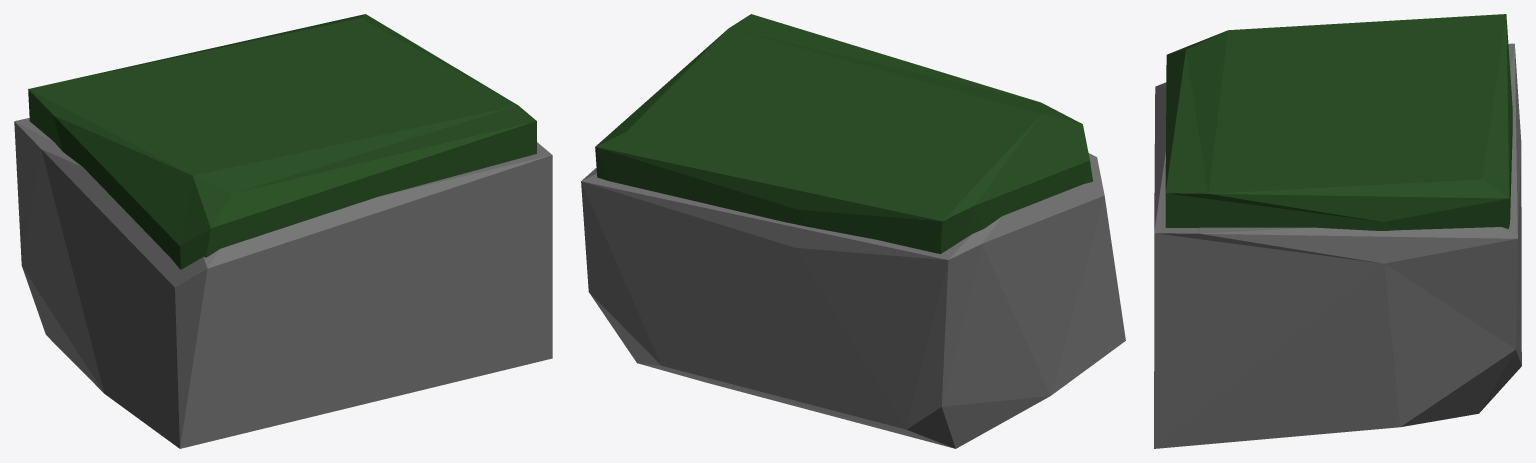
Rendered from SM_stoneblock_jungle_01.fbx.
3 views of the same model, side by side, from view 1: azimuth 30°, elevation 25°; view 2: azimuth 150°, elevation 25°; view 3: azimuth 270°, elevation 25° (orthographic). The views are drawn at different scales.
Visible parts, largest first — view 1: Object054; view 2: Object054; view 3: Object054.
Boxes of the visible parts, <box> form: Object054: <box>14,14,552,448</box>; Object054: <box>581,14,1125,448</box>; Object054: <box>1154,14,1521,448</box>.
Bounding box in the file's own units: 40.39 × 24.32 × 32.33.
